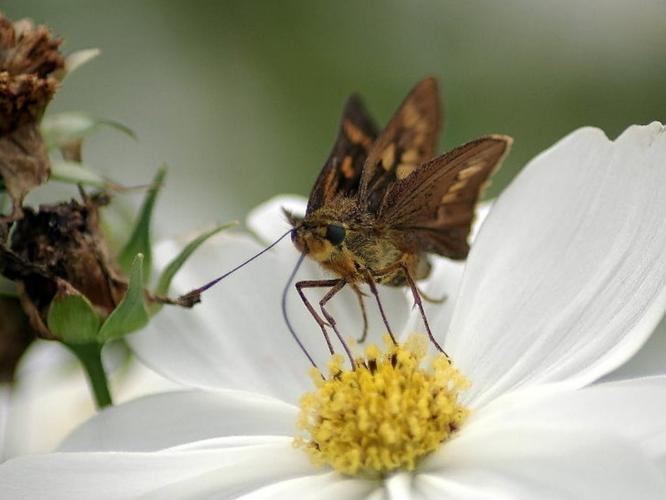Hesperiidae: (183, 66, 515, 363)
